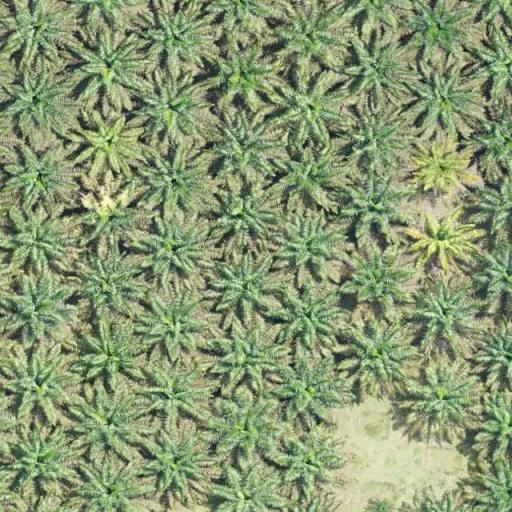Ganoderma: (420, 220, 462, 258), (422, 151, 462, 184)
